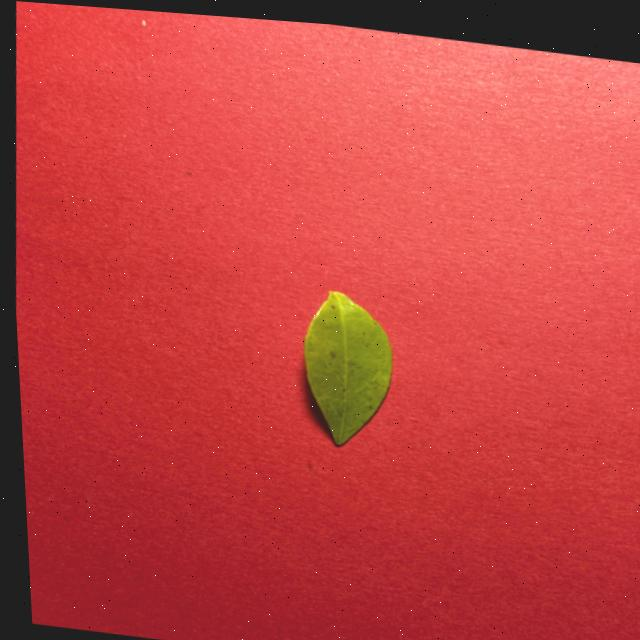greening: (304, 291, 392, 445)
